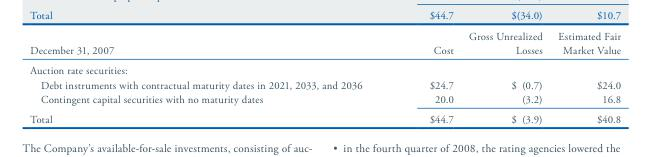table: (29, 28, 620, 125)
table column: (29, 28, 395, 125), (460, 28, 549, 125), (549, 28, 620, 125), (395, 28, 460, 125)
table column header: (29, 28, 620, 60)
table projected row header: (29, 60, 620, 77)
table row: (29, 28, 620, 60), (29, 91, 620, 109), (29, 60, 620, 77), (29, 109, 620, 125), (29, 77, 620, 91)
